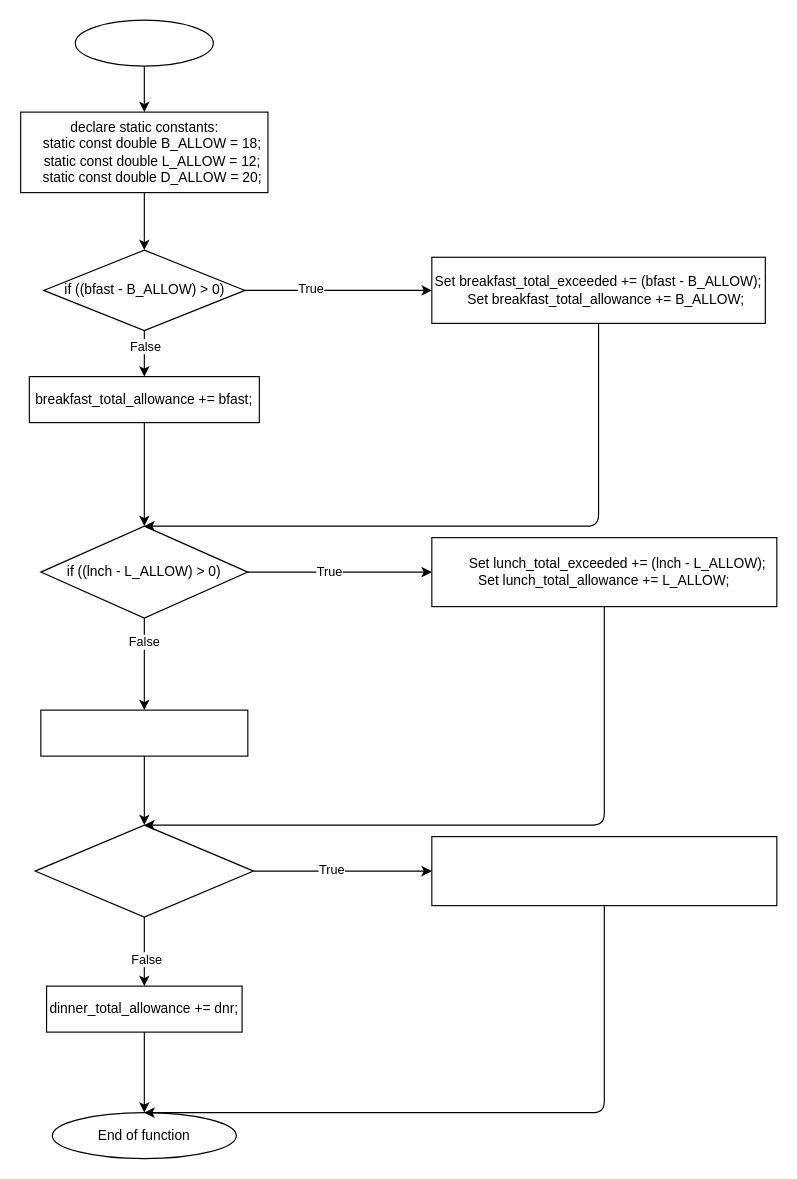
Image size: 797x1179. Some labels were removed from this diagram. Here are the shapes that lost their labels. From the top down, the box of each, then its label:
(74, 19, 213, 66): mealComp
(40, 709, 248, 756): lunch_total_allowance += lnch;
(34, 824, 254, 917): if ((dnr - D_ALLOW) > 0)
(431, 835, 777, 906): dinner_total_exceeded += (dnr - D_ALLOW); dinner_total_allowance += D_ALLOW;
